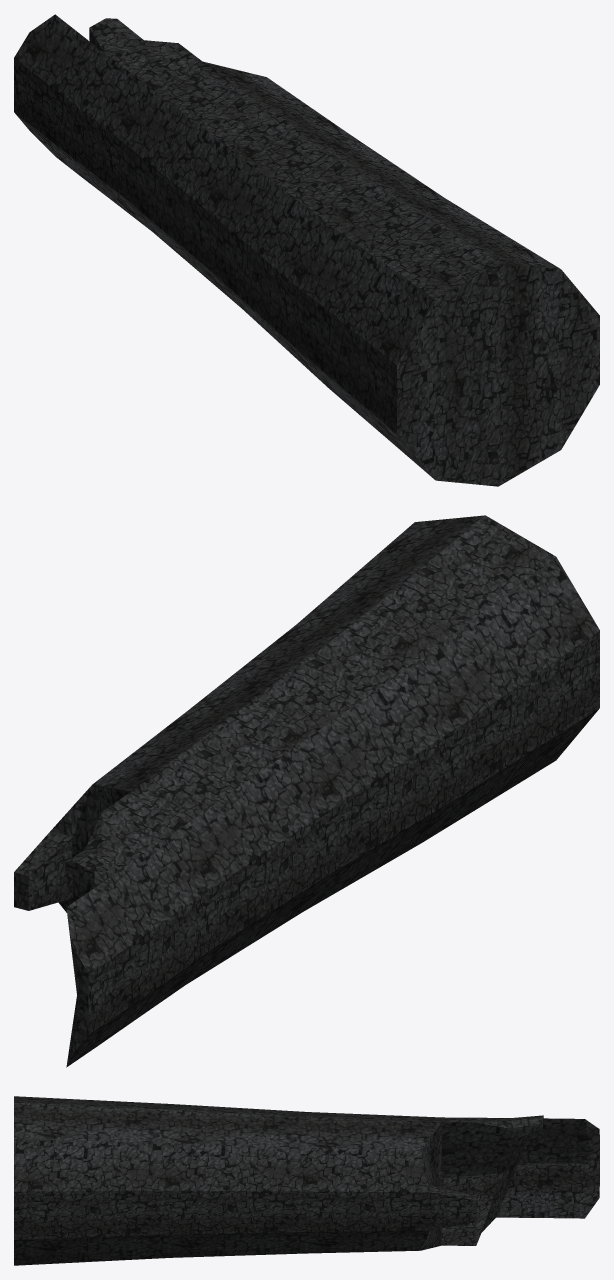
Rendered from Tree Debris.fbx.
The picture shows the model from 3 angles, top to bottom: view 1: azimuth 30°, elevation 25°; view 2: azimuth 150°, elevation 25°; view 3: azimuth 270°, elevation 25°; orthographic projection. The views are drawn at different scales.
Visible parts, largest first — view 1: Cylinder; view 2: Cylinder; view 3: Cylinder.
Part boxes in pixels (x1,y1,x2,y2): Cylinder: (14,14,599,486); Cylinder: (14,515,599,1067); Cylinder: (14,1096,599,1265).
Bounding box in the file's own units: 232 × 244 × 829.
1 material, 1 textured.
